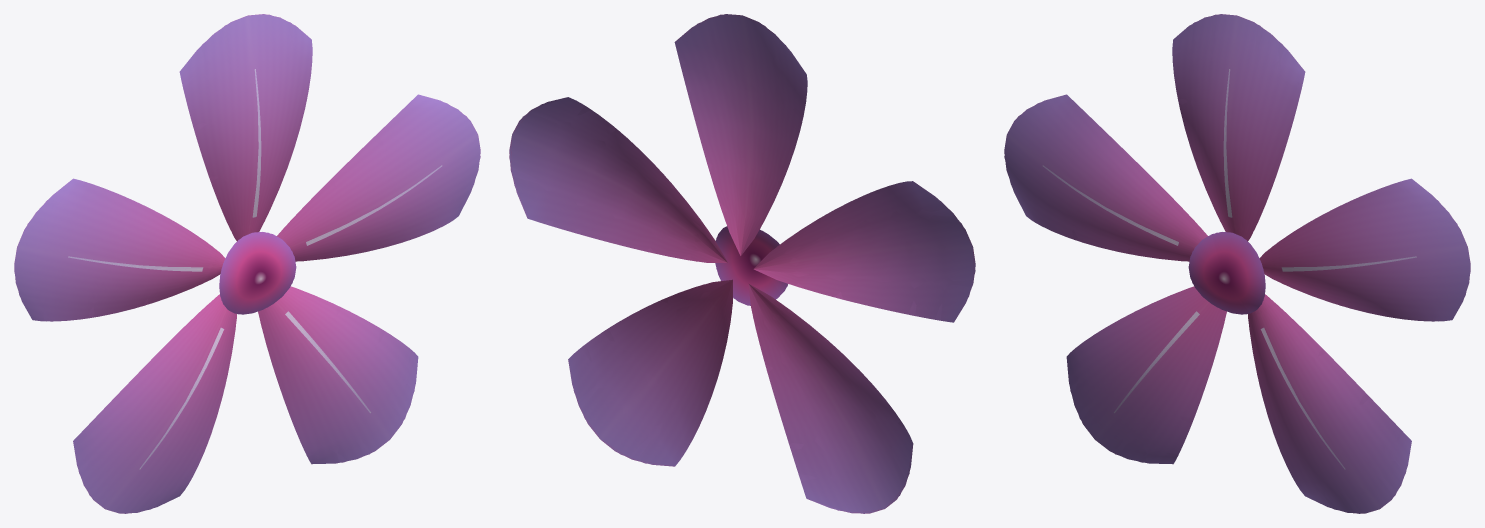
The model's file is periwinkle_forehead.glb.
3 renders of one model, left to right at view 1: azimuth 30°, elevation 25°; view 2: azimuth 150°, elevation 25°; view 3: azimuth 330°, elevation 25°, orthographic.
Visible parts, largest first — view 1: periwinkle_petals_lod_a, periwinkle_petals_lod_b, periwinkle_center_lod_a, periwinkle_veins_lod_a, periwinkle_center_lod_c; view 2: periwinkle_petals_lod_c, periwinkle_petals_lod_b, periwinkle_center_lod_c, periwinkle_petals_lod_a, periwinkle_center_lod_b, periwinkle_center_lod_a; view 3: periwinkle_petals_lod_a, periwinkle_petals_lod_b, periwinkle_center_lod_a, periwinkle_veins_lod_a, periwinkle_center_lod_c.
Boxes of the visible parts, bbox=[...] form: periwinkle_petals_lod_a: bbox=[14, 14, 480, 513]; periwinkle_petals_lod_b: bbox=[14, 14, 480, 513]; periwinkle_center_lod_a: bbox=[219, 232, 296, 314]; periwinkle_veins_lod_a: bbox=[68, 69, 442, 469]; periwinkle_center_lod_c: bbox=[235, 232, 272, 313]; periwinkle_petals_lod_c: bbox=[511, 15, 973, 513]; periwinkle_petals_lod_b: bbox=[509, 14, 975, 513]; periwinkle_center_lod_c: bbox=[716, 227, 786, 298]; periwinkle_petals_lod_a: bbox=[509, 14, 975, 513]; periwinkle_center_lod_b: bbox=[715, 226, 787, 299]; periwinkle_center_lod_a: bbox=[715, 226, 787, 305]; periwinkle_petals_lod_a: bbox=[1004, 14, 1470, 513]; periwinkle_petals_lod_b: bbox=[1004, 14, 1470, 513]; periwinkle_center_lod_a: bbox=[1188, 232, 1265, 314]; periwinkle_veins_lod_a: bbox=[1042, 69, 1416, 469]; periwinkle_center_lod_c: bbox=[1212, 232, 1249, 313].
Bounding box in the file's own units: 0.2117 × 0.2043 × 0.012.
3 materials, 3 textured.
